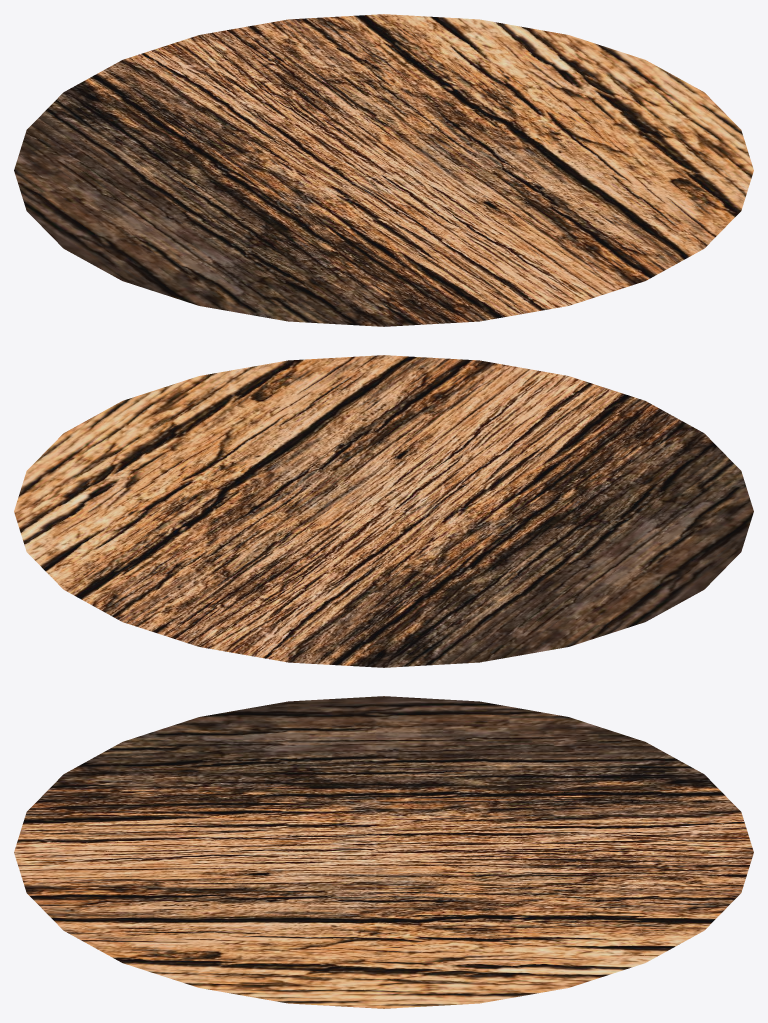
File: mesa.obj
3 views of the same model, one above another, from view 1: azimuth 30°, elevation 25°; view 2: azimuth 150°, elevation 25°; view 3: azimuth 270°, elevation 25° (orthographic).
Parts seen in each view (by area): view 1: pasted__pDisc2 group; view 2: pasted__pDisc2 group; view 3: pasted__pDisc2 group.
Part boxes in pixels (<box>): pasted__pDisc2 group: <box>14,14,753,326</box>; pasted__pDisc2 group: <box>14,355,753,667</box>; pasted__pDisc2 group: <box>14,696,753,1008</box>.
Size of the model in its own units: 0.6 by 0 by 0.6.
1 material, 1 textured.
